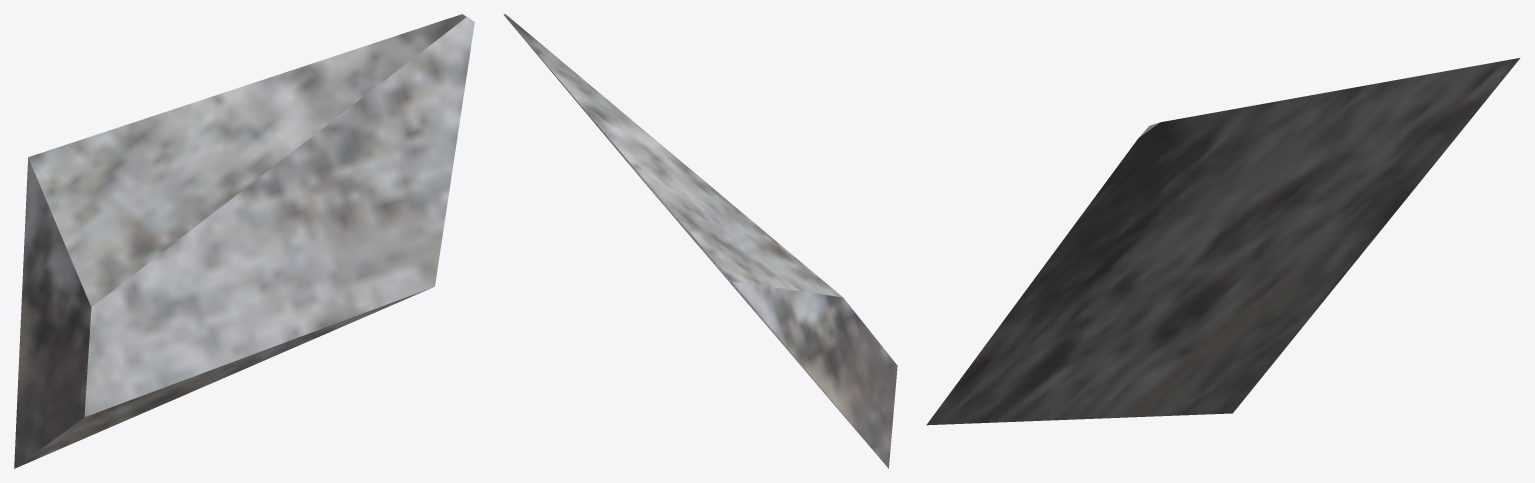
Rendered from Asteroid_Large_001_02_011_03_011.fbx.
The picture shows the model from 3 angles, left to right: view 1: azimuth 30°, elevation 25°; view 2: azimuth 150°, elevation 25°; view 3: azimuth 270°, elevation 25°; orthographic projection. The views are drawn at different scales.
Parts seen in each view (by area): view 1: Asteroid_Large_001_02_011_03_011; view 2: Asteroid_Large_001_02_011_03_011; view 3: Asteroid_Large_001_02_011_03_011.
Part boxes in pixels (bbox=[...]): Asteroid_Large_001_02_011_03_011: bbox=[14, 14, 474, 468]; Asteroid_Large_001_02_011_03_011: bbox=[504, 14, 897, 468]; Asteroid_Large_001_02_011_03_011: bbox=[926, 58, 1519, 425].
Size of the model in its own units: 2.77 by 2.21 by 1.74.
